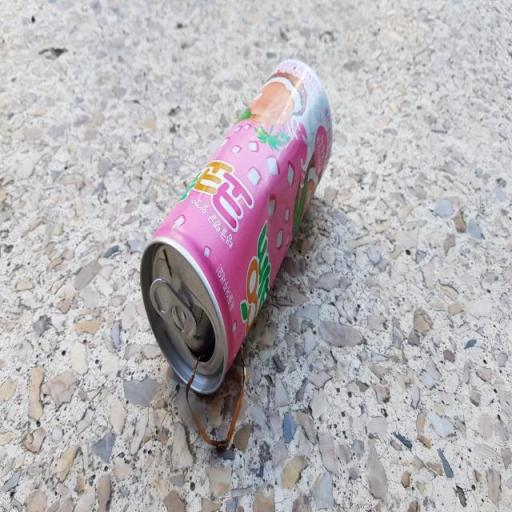metal: (134, 35, 351, 423)
